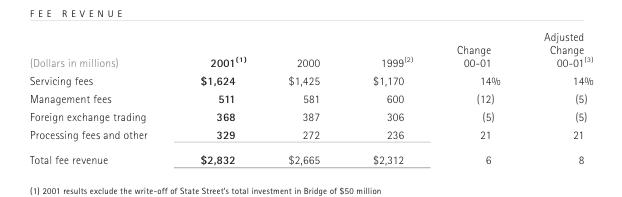table: (28, 29, 592, 166)
table column: (28, 29, 173, 166), (173, 29, 266, 166), (345, 29, 434, 166), (434, 29, 521, 166), (266, 29, 345, 166), (521, 29, 592, 166)
table column header: (28, 29, 592, 70)
table row: (28, 29, 592, 70), (28, 124, 592, 146), (28, 146, 592, 166), (28, 70, 592, 88), (28, 88, 592, 106), (28, 106, 592, 124)
